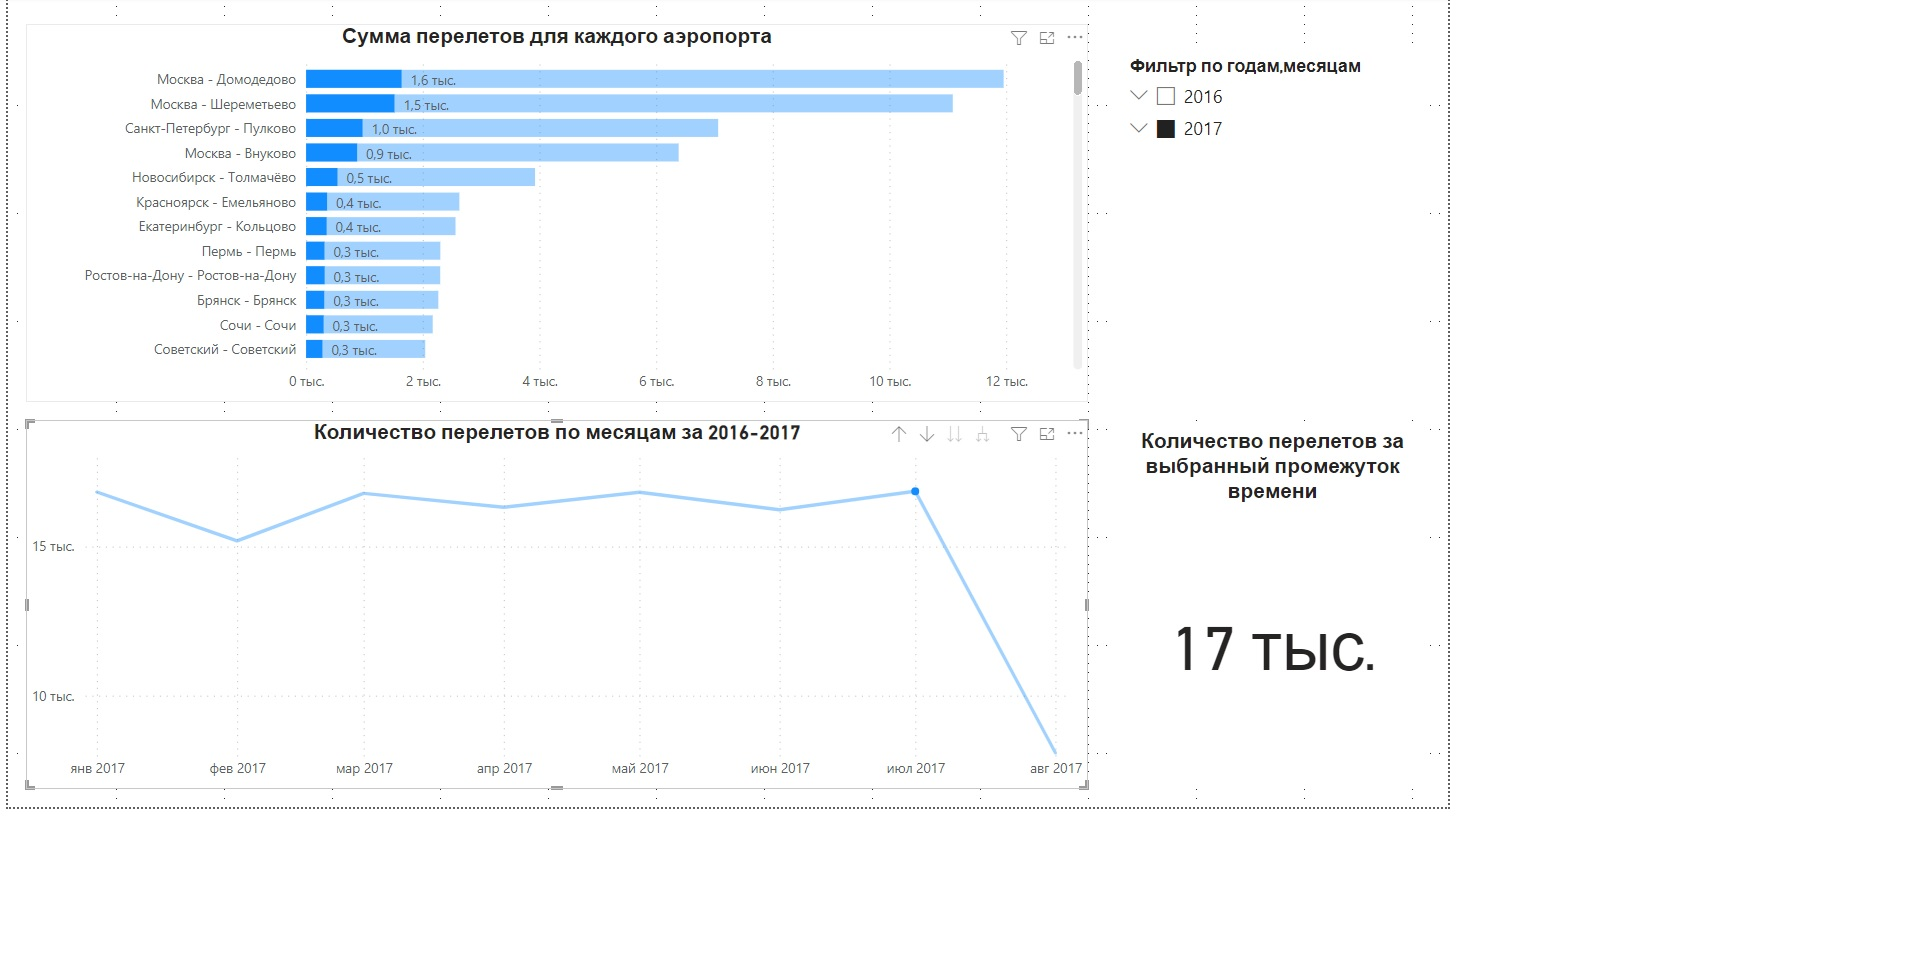

The dashboard page shown, as its layout file describes it:
{"tool":"powerbi","page":{"name":"Страница 1","canvas":[1280,720],"ordinal":0},"visuals":[{"type":"card","title":"Количество перелетов за выбранный промежуток времени","fields":{"Values":["departure_airport_count.Total_amount_per_date"]},"box":[984,384,280,320],"z":0},{"type":"lineChart","title":"Количество перелетов по месяцам за 2016-2017","fields":{"Category":["departure_airport_count.departure_date.Изменение.Иерархия дат.Год","departure_airport_count.departure_date.Изменение.Иерархия дат.Месяц"],"Y":["departure_airport_count.Total_amount_per_date"]},"box":[16,376,944,328],"z":1000},{"type":"clusteredBarChart","title":"Сумма перелетов для каждого аэропорта","fields":{"Category":["departure_airport_count.departure_airport"],"Y":["departure_airport_count.Total_amount_per_date"]},"box":[16,24,944,336],"z":2000},{"type":"slicer","fields":{"Values":["departure_airport_count.departure_date.Изменение.Иерархия дат.Год","departure_airport_count.departure_date.Изменение.Иерархия дат.Месяц"]},"box":[984,48,280,328],"z":3000}]}

Visuals, with their boxes on the page's 1280x720 design canvas (x1, y1, x2, y2). These are canvas units, not pixel positions in the 1909x960 screenshot, which may show the page scaled, cropped or inside an application window:
"Количество перелетов за выбранный промежуток времени" card: <region>984, 384, 1264, 704</region>
"Количество перелетов по месяцам за 2016-2017" lineChart: <region>16, 376, 960, 704</region>
"Сумма перелетов для каждого аэропорта" clusteredBarChart: <region>16, 24, 960, 360</region>
slicer - departure_airport_count.departure_date.Изменение.Иерархия дат.Год x departure_airport_count.departure_date.Изменение.Иерархия дат.Месяц: <region>984, 48, 1264, 376</region>
